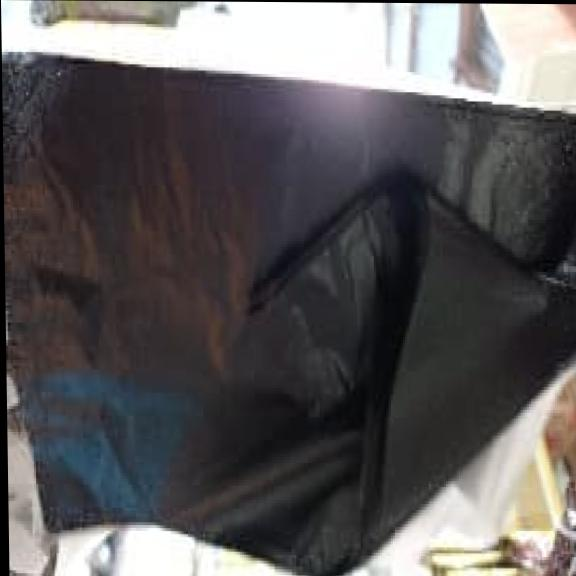Plastik: (3, 59, 576, 575)
